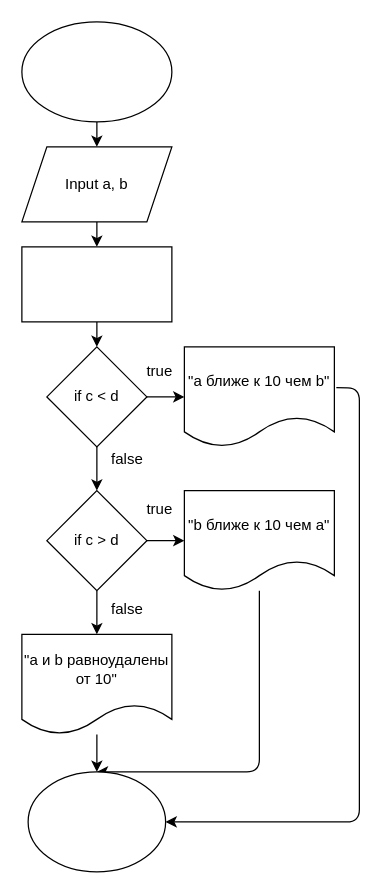
Image size: 391x894. Some labels were removed from this diagram. The centre of each missing label's shape, as x and y in pixels:
"c = |a - 10| d = |b - 10|" goes at point (96, 284).
"End" goes at point (96, 821).
"Start" goes at point (96, 71).
